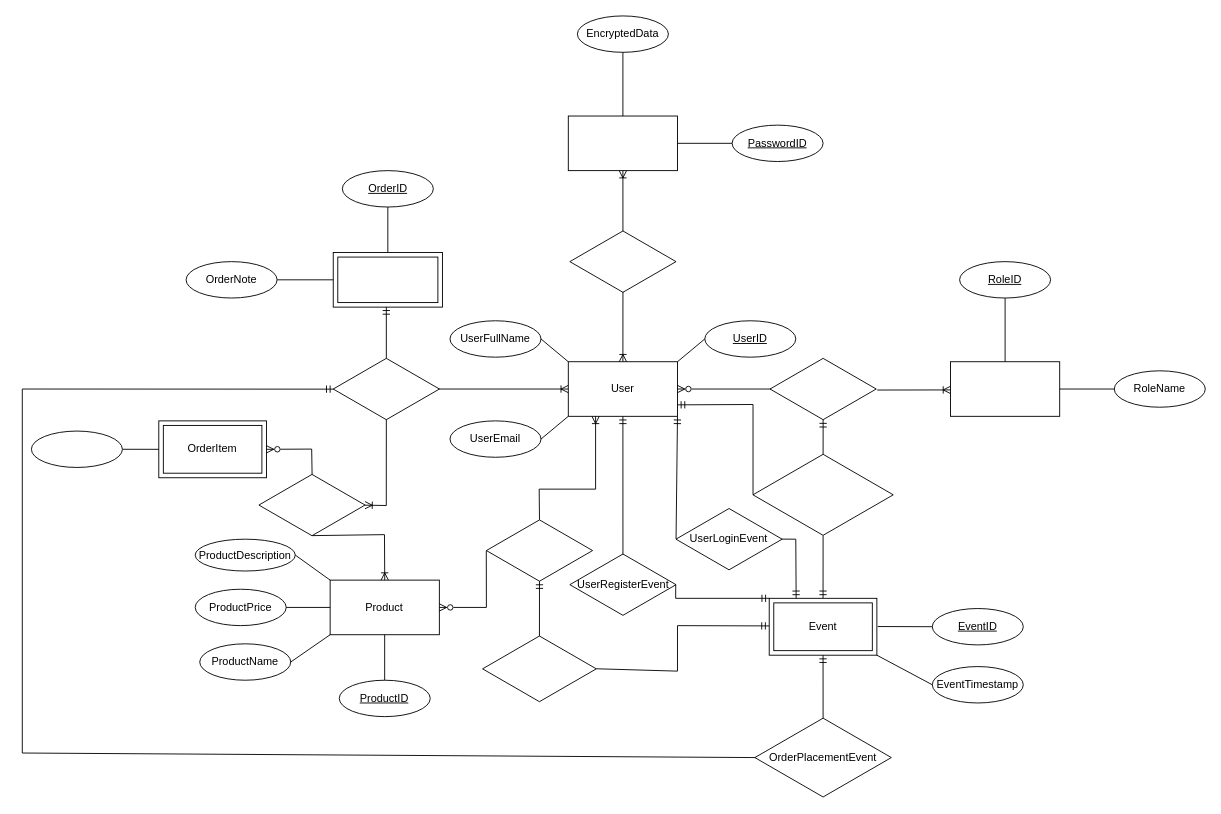
Some shapes in this 1221 by 814 pixel diagram are drawn without their labels. The shapes that lost their labels are listed below. From the top down, each one's centre as x and y in pixels, then its label:
At pixel 622 143: "Password".
At pixel 387 279: "Order".
At pixel 622 261: "UserPassword".
At pixel 385 388: "PlacedOrder".
At pixel 822 388: "UserRole".
At pixel 1005 388: "Role".
At pixel 76 448: "OrderItemID".
At pixel 311 504: "ProductItem".
At pixel 822 494: "RoleAssignmentEvent".
At pixel 539 550: "AddedProduct".
At pixel 539 668: "ProductAddEvent".
